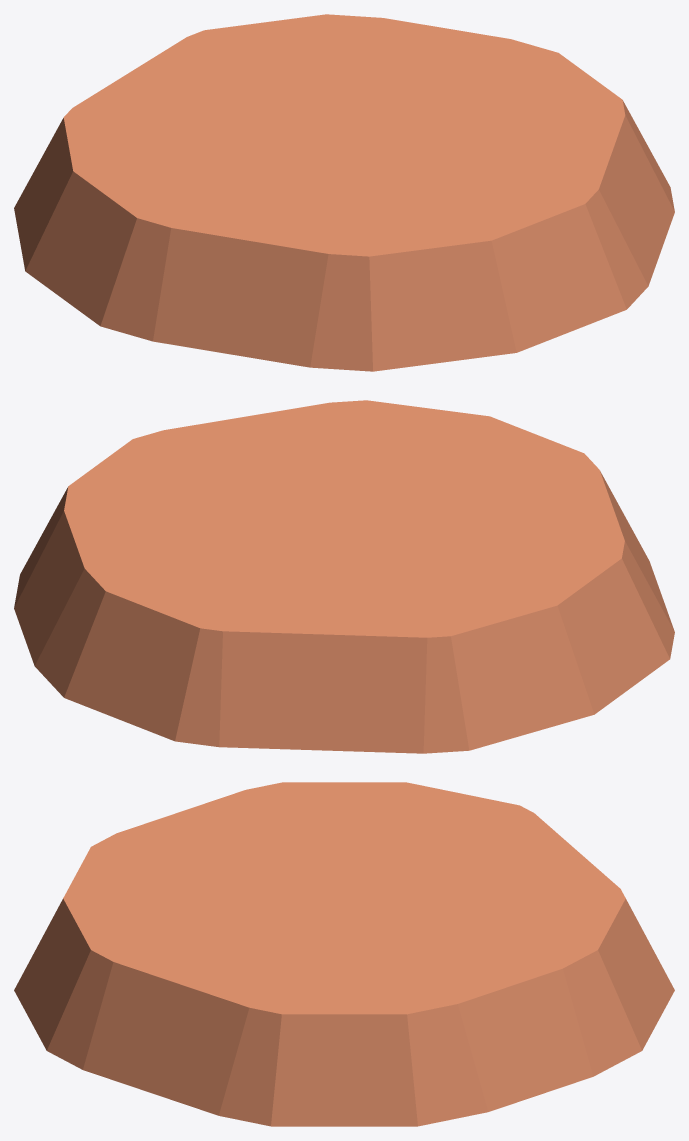
The model's file is Rock011.fbx.
3 renders of one model, top to bottom at view 1: azimuth 30°, elevation 25°; view 2: azimuth 150°, elevation 25°; view 3: azimuth 270°, elevation 25°, orthographic. The views are drawn at different scales.
Parts seen in each view (by area): view 1: Rock011; view 2: Rock011; view 3: Rock011.
Boxes of the visible parts, x1,y1,x2,y2 form: Rock011: (14, 14, 674, 371); Rock011: (14, 400, 674, 753); Rock011: (14, 782, 674, 1126).
Bounding box in the file's own units: 108 × 17.06 × 111.
